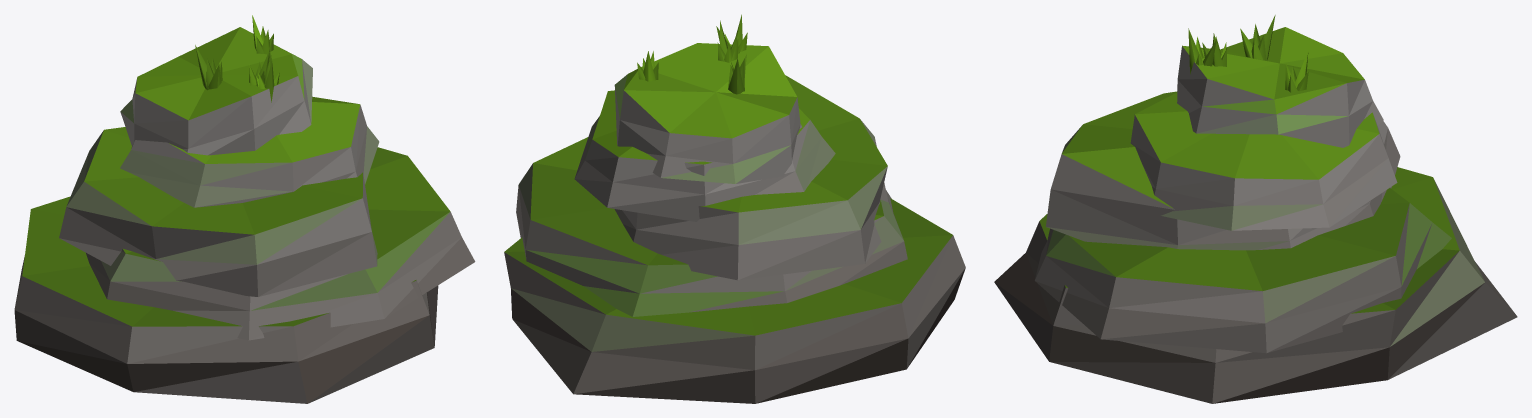
Rendered from batu_slate_limestone_631277.glb.
3 views of the same model, side by side, from view 1: azimuth 30°, elevation 25°; view 2: azimuth 150°, elevation 25°; view 3: azimuth 270°, elevation 25° (orthographic). The views are drawn at different scales.
Visible parts, largest first — view 1: Batu_Pipih_Bertumpuk; view 2: Batu_Pipih_Bertumpuk; view 3: Batu_Pipih_Bertumpuk.
Boxes of the visible parts, left/top/right/bottom form: Batu_Pipih_Bertumpuk: left=14, top=15, right=475, bottom=403; Batu_Pipih_Bertumpuk: left=504, top=14, right=965, bottom=403; Batu_Pipih_Bertumpuk: left=994, top=15, right=1517, bottom=403.
Size of the model in its own units: 4.86 by 3.1 by 5.19.
